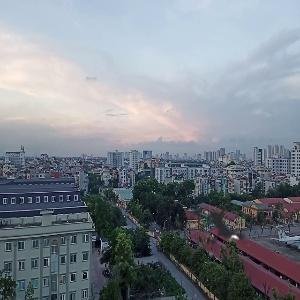drone: (167, 179, 271, 283)
